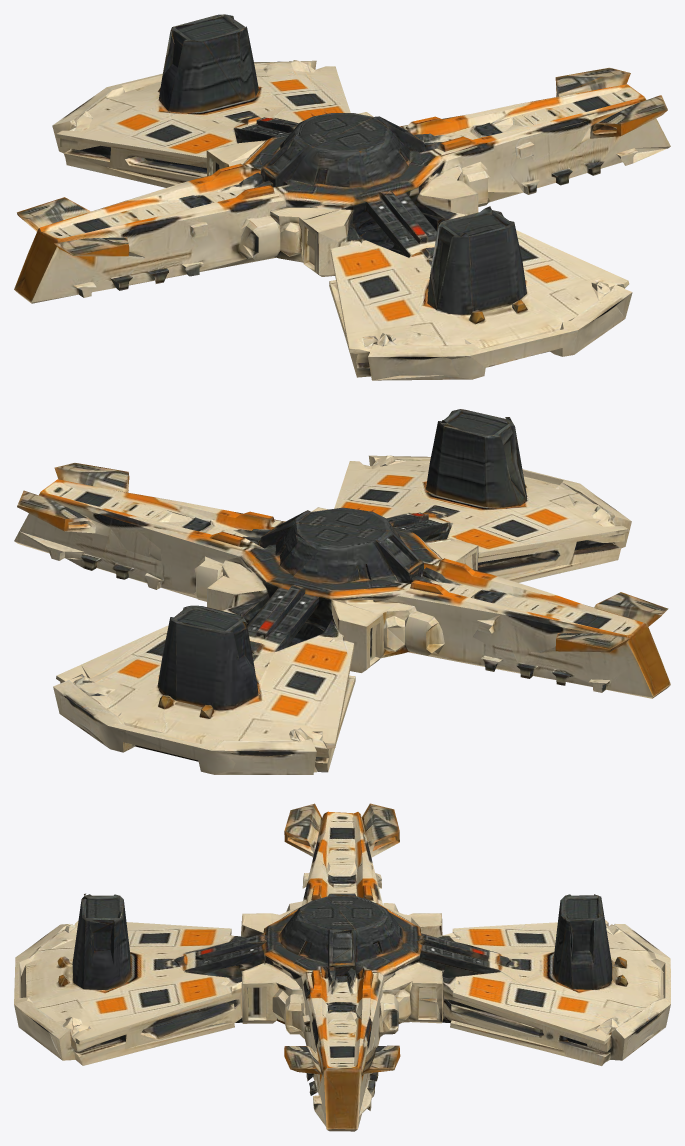
Rendered from nation-z-fortress.glb.
3 views of the same model, one above another, from view 1: azimuth 30°, elevation 25°; view 2: azimuth 150°, elevation 25°; view 3: azimuth 270°, elevation 25° (orthographic). The views are drawn at different scales.
Bounding box in the file's own units: 1.9 × 0.3399 × 1.88.
Materials: 1 (1 with a texture image).
